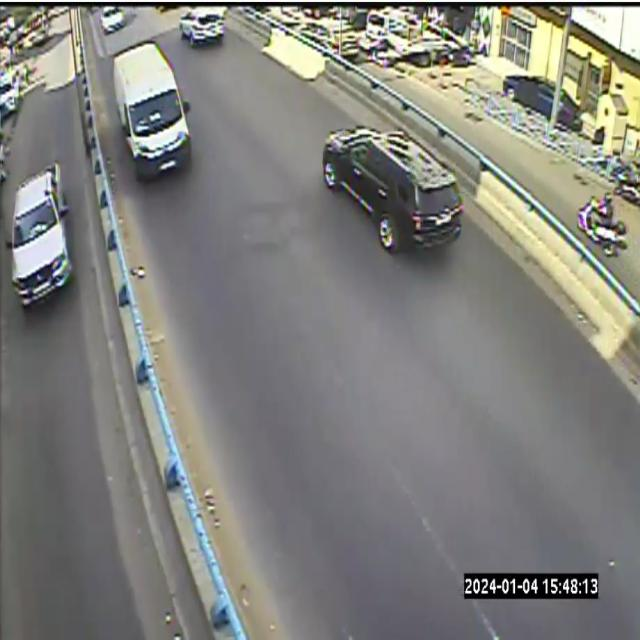car: (323, 127, 463, 253), (4, 161, 74, 313), (5, 163, 72, 308)
